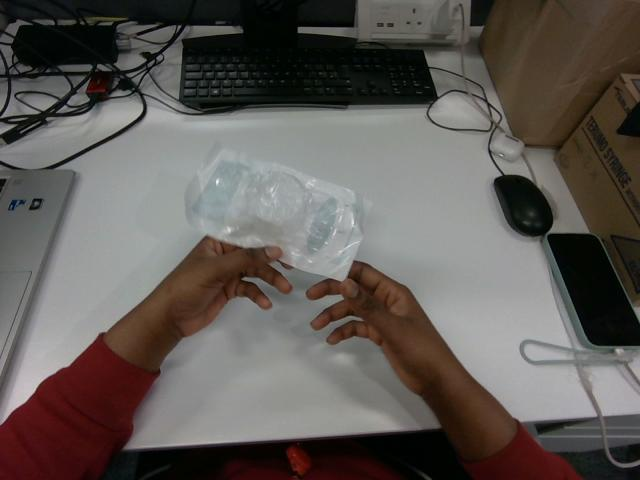gallipot: (185, 147, 369, 279)
